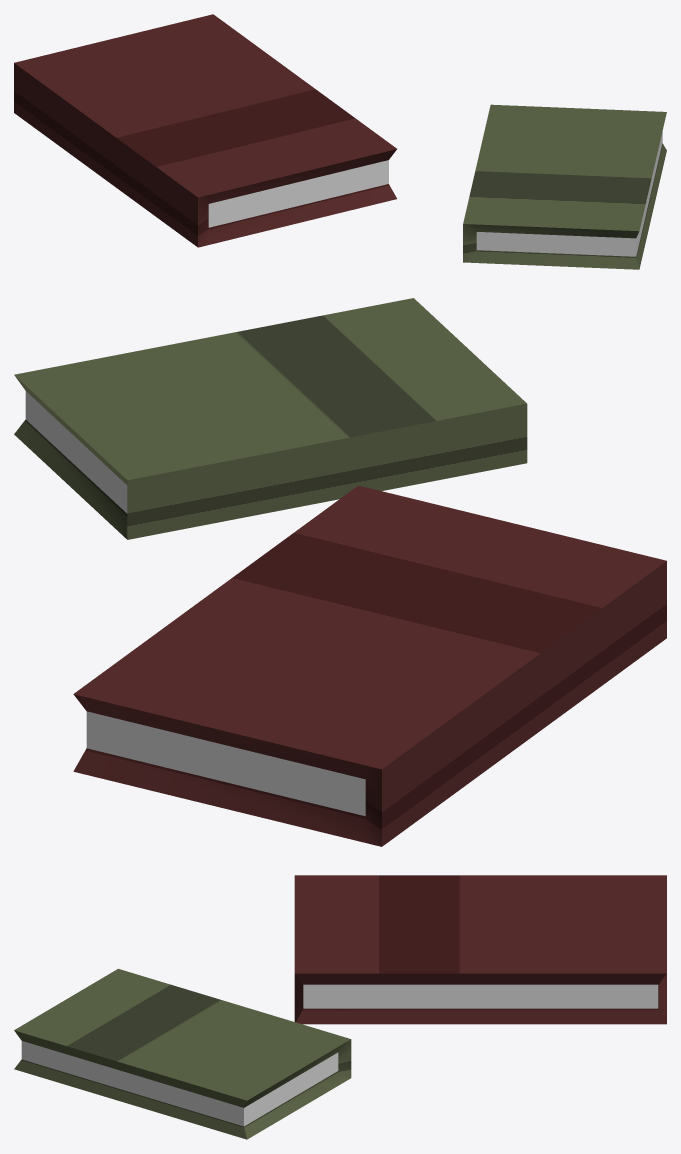
Rendered from libros.fbx.
3 views of the same model, one above another, from view 1: azimuth 30°, elevation 25°; view 2: azimuth 150°, elevation 25°; view 3: azimuth 270°, elevation 25° (orthographic). The views are drawn at different scales.
Parts seen in each view (by area): view 1: rojo, verde, bR, bV; view 2: rojo, verde, bR, bV; view 3: rojo, verde, bR, bV.
Boxes of the visible parts, x1,y1,x2,y2 form: rojo: (14,14,396,247); verde: (463,104,666,269); bR: (208,160,388,227); bV: (476,131,662,256); rojo: (73,485,666,846); verde: (14,298,527,539); bR: (86,711,365,816); bV: (25,391,127,513); rojo: (294,875,666,1024); verde: (14,968,351,1139); bR: (303,984,658,1008); bV: (21,1041,338,1126).
Size of the model in its own units: 72.75 by 7.81 by 91.4.
Materials: 3 (3 with a texture image).
